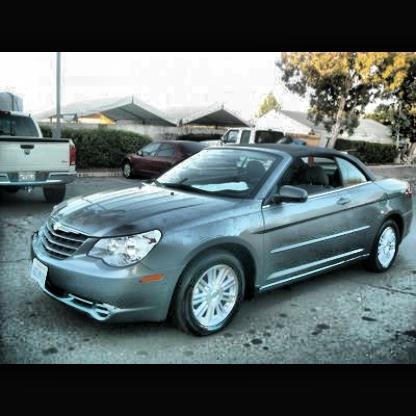Chrysler Sebring Convertible 2010: (32, 146, 415, 339)
